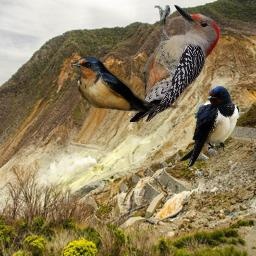Swallow: (71, 57, 181, 112), (179, 85, 240, 170)
Woodpecker: (130, 5, 220, 122)
